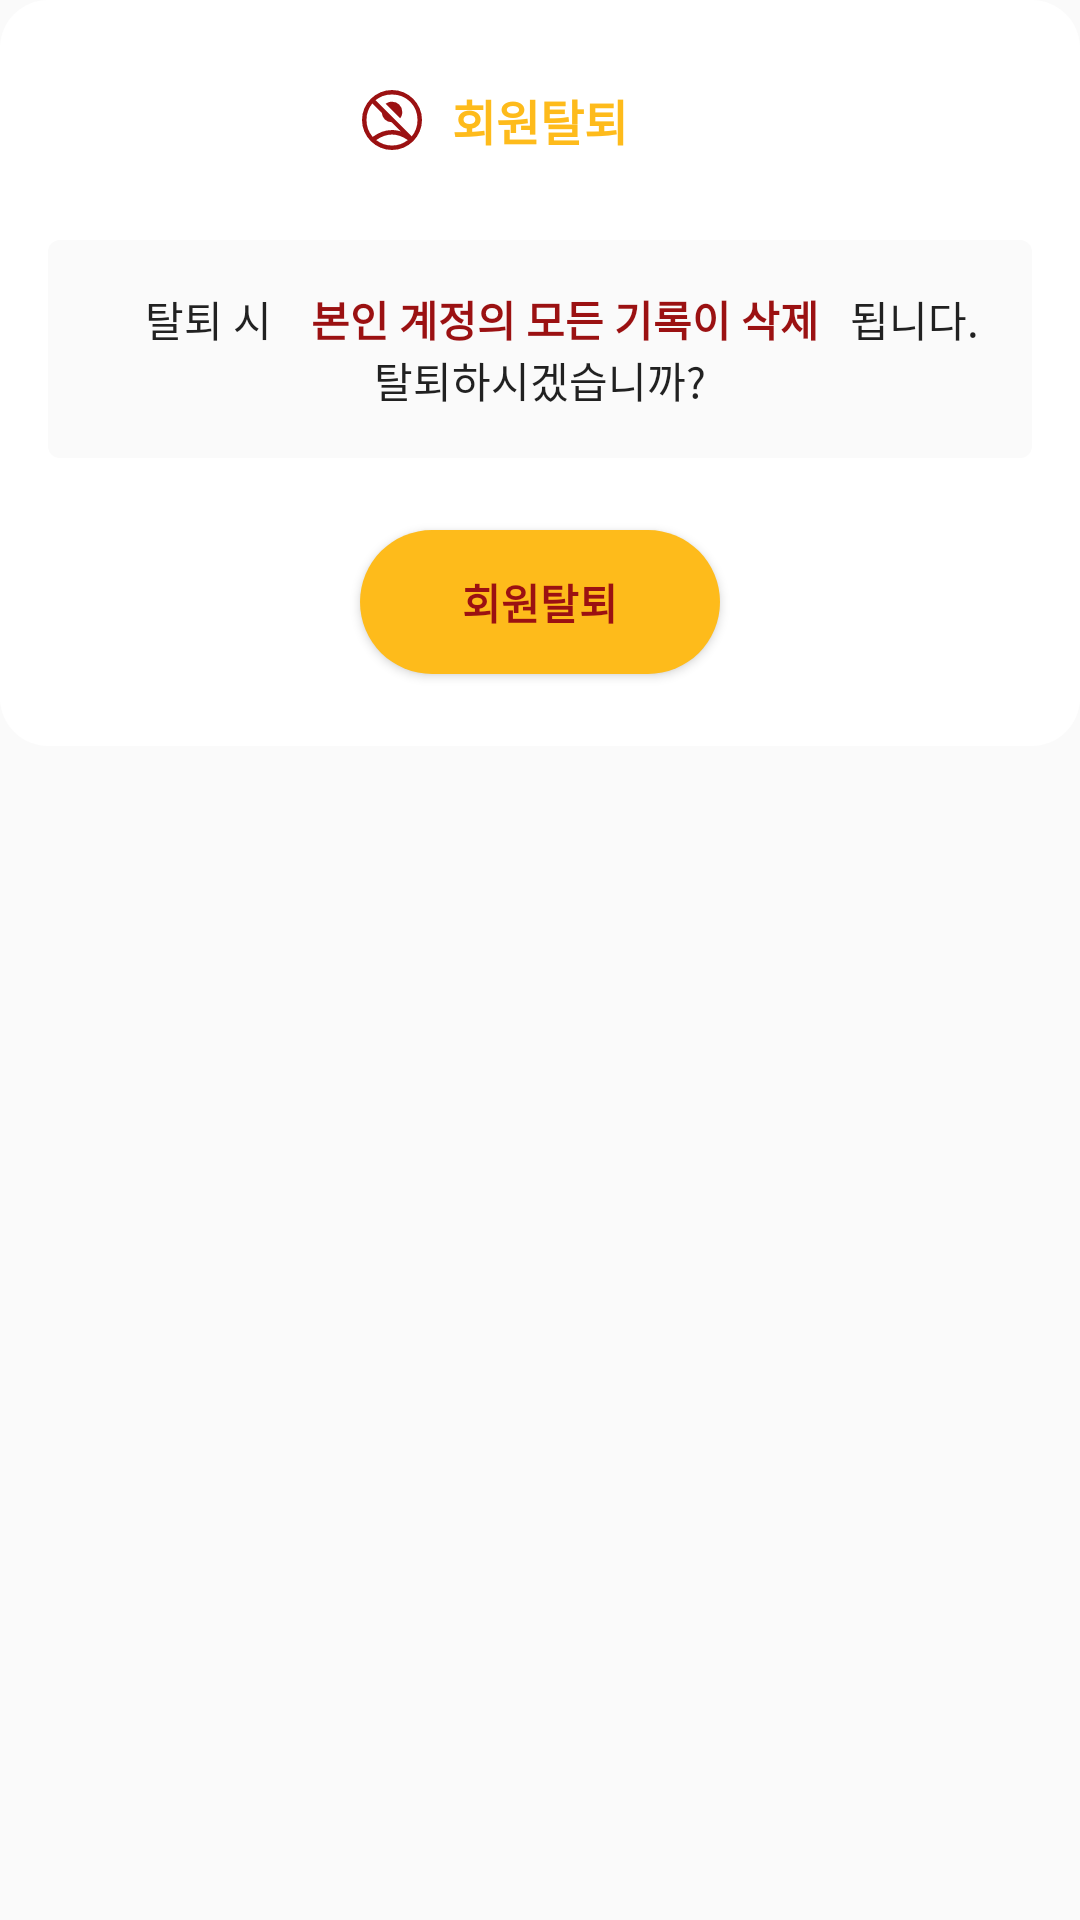

Icons on this 1080×1920 Android screen, each with its box as (x1, y1, x2, y2):
withdrawal: (362, 90, 422, 150)
